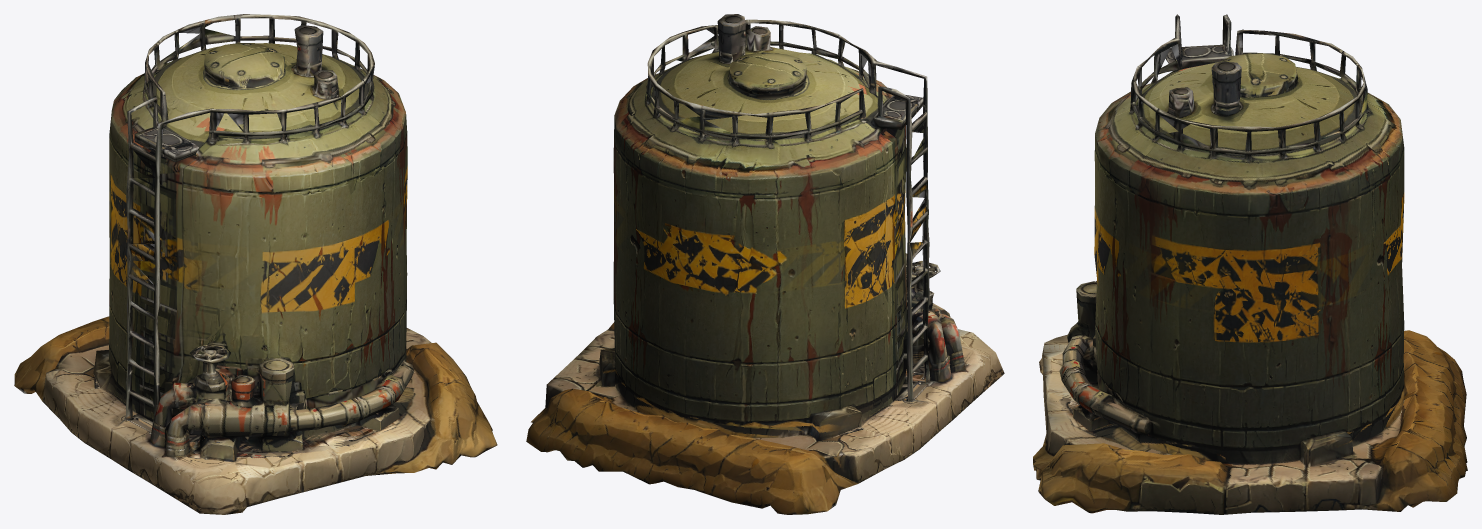
The model's file is EX_Mil_FuelTank.fbx.
The picture shows the model from 3 angles, left to right: view 1: azimuth 30°, elevation 25°; view 2: azimuth 150°, elevation 25°; view 3: azimuth 270°, elevation 25°; orthographic projection. The views are drawn at different scales.
Parts seen in each view (by area): view 1: texture_mapping; view 2: texture_mapping; view 3: texture_mapping.
Boxes of the visible parts, x1,y1,x2,y2 form: texture_mapping: (14, 14, 497, 514); texture_mapping: (526, 14, 1004, 514); texture_mapping: (1033, 14, 1467, 514).
Size of the model in its own units: 0.9174 by 0.9951 by 0.9909.
1 material, 1 textured.
